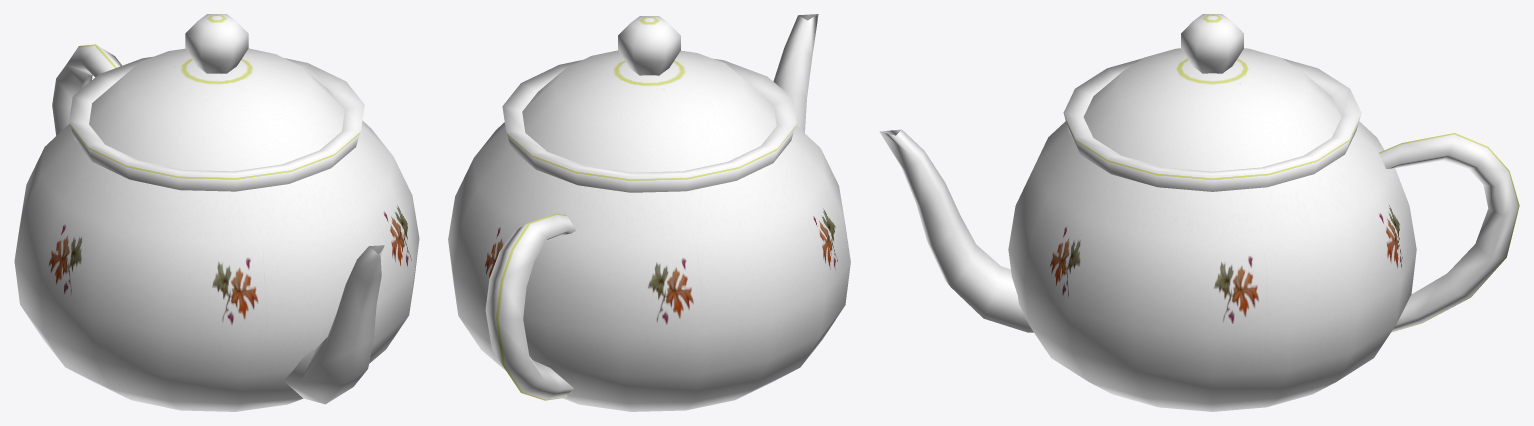
The model's file is M_Home_Garden_Teapot.fbx.
3 views of the same model, side by side, from view 1: azimuth 30°, elevation 25°; view 2: azimuth 150°, elevation 25°; view 3: azimuth 270°, elevation 25° (orthographic).
Visible parts, largest first — view 1: M_Home_Garden_Teapot; view 2: M_Home_Garden_Teapot; view 3: M_Home_Garden_Teapot.
Part boxes in pixels (left/top/right/bottom): M_Home_Garden_Teapot: left=14, top=14, right=419, bottom=411; M_Home_Garden_Teapot: left=448, top=14, right=850, bottom=411; M_Home_Garden_Teapot: left=879, top=14, right=1519, bottom=411.
Size of the model in its own units: 25.84 by 23.44 by 40.51.
